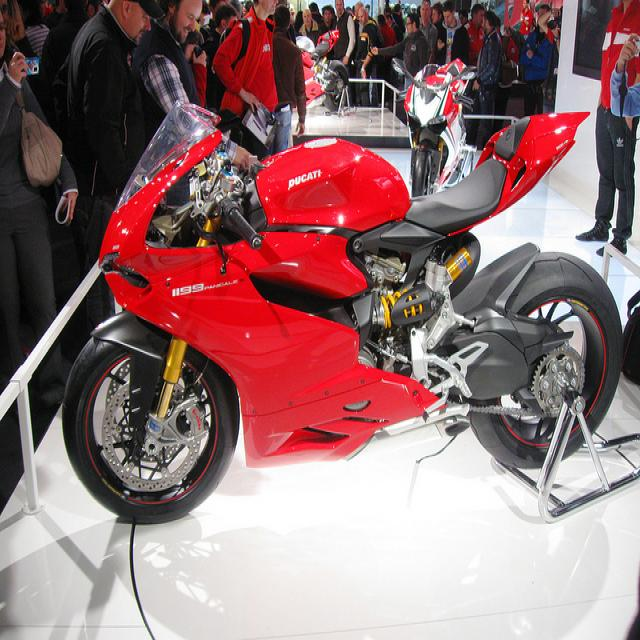motor: (59, 102, 633, 516), (390, 60, 475, 194), (295, 29, 351, 116)
